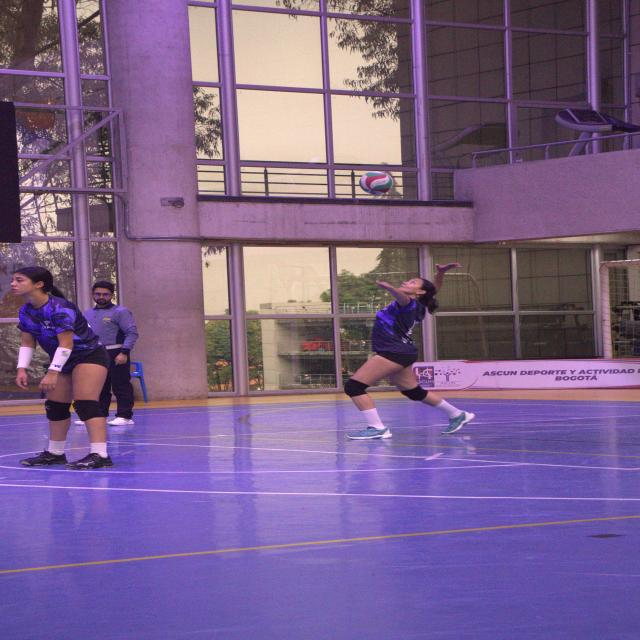volleyball: (358, 172, 393, 195)
